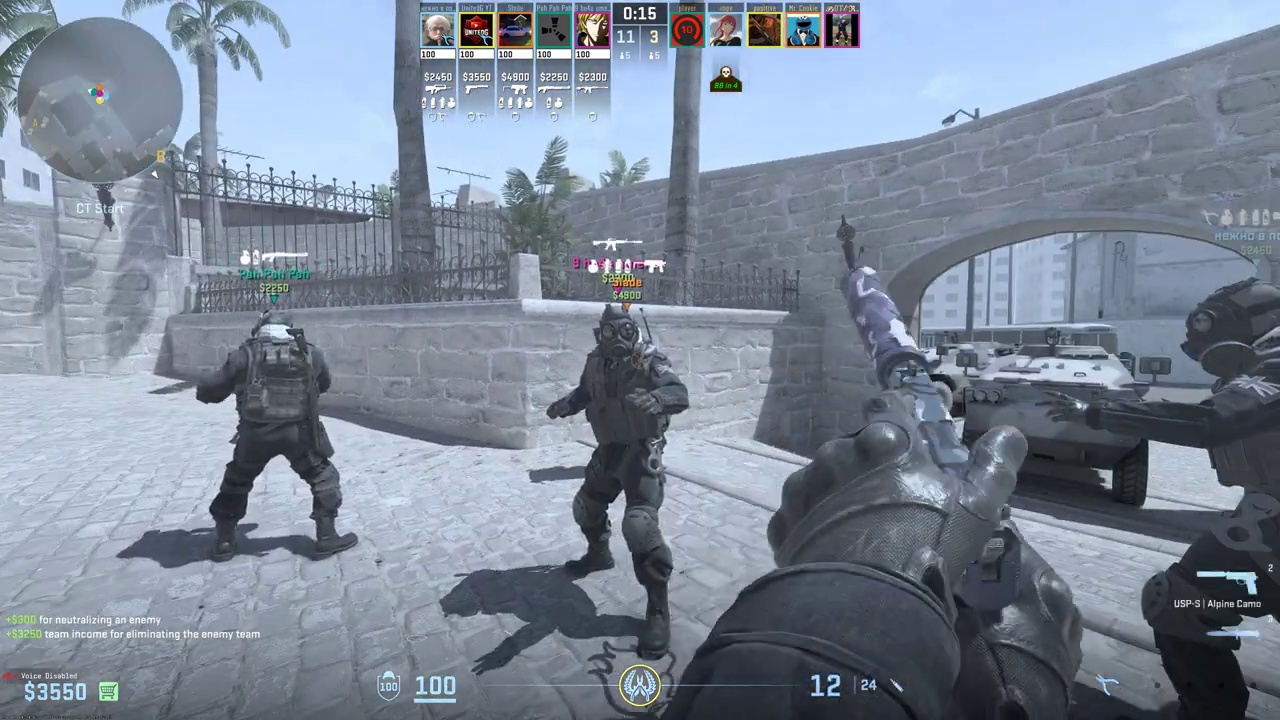CT: (1163, 282, 1280, 719), (571, 304, 686, 646), (209, 318, 353, 562)
